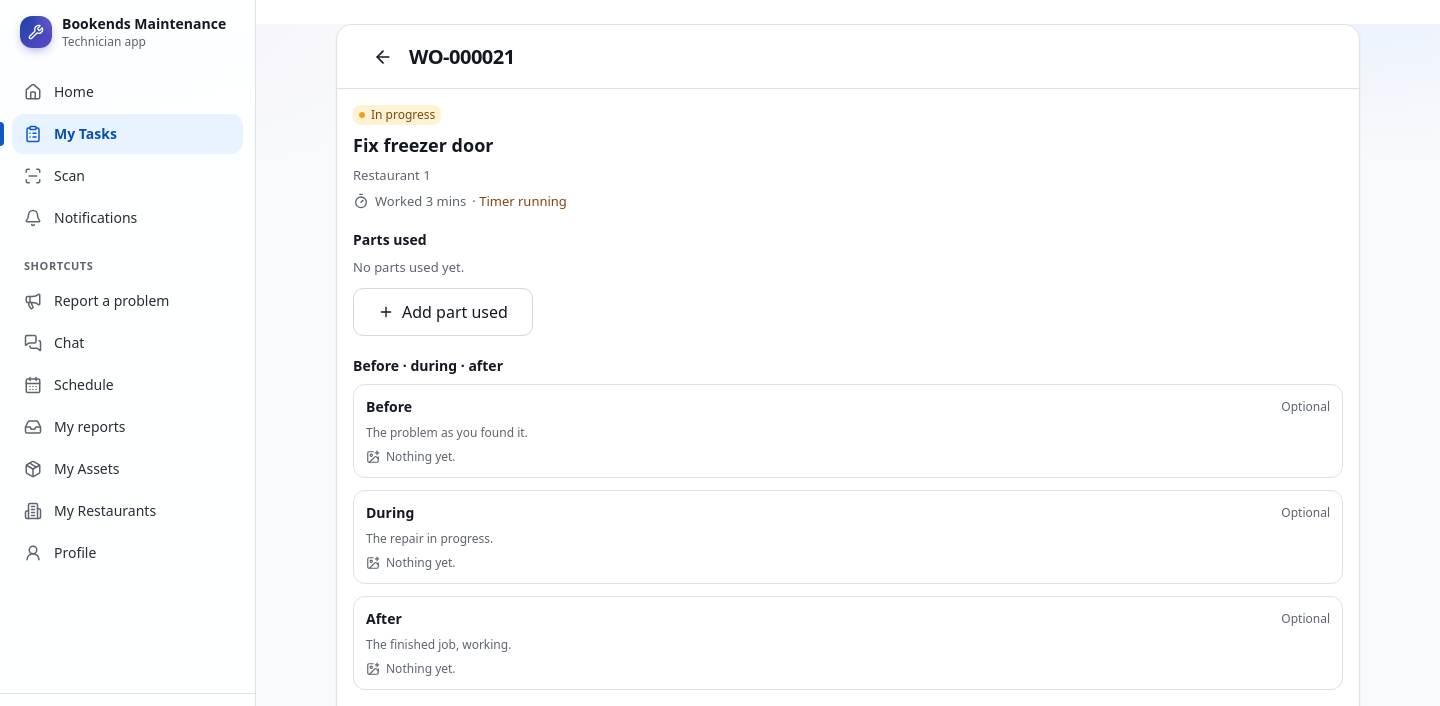
Test case: parts used on a task (worker) › picks an in-stock part and records it
Click the button "Add part used" at (443, 312), box [353, 288, 533, 336]
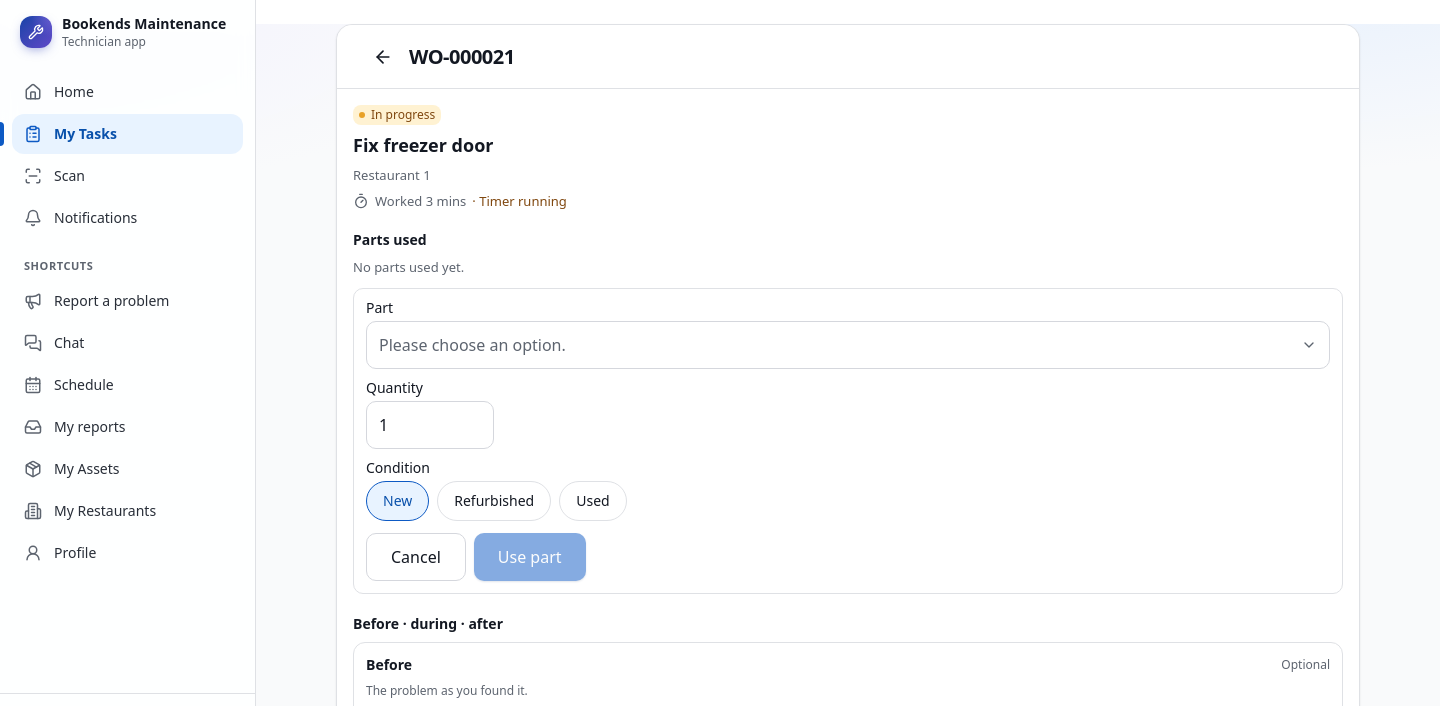
Click the dropdown named "Part" at (472, 345), box [366, 321, 1330, 369]
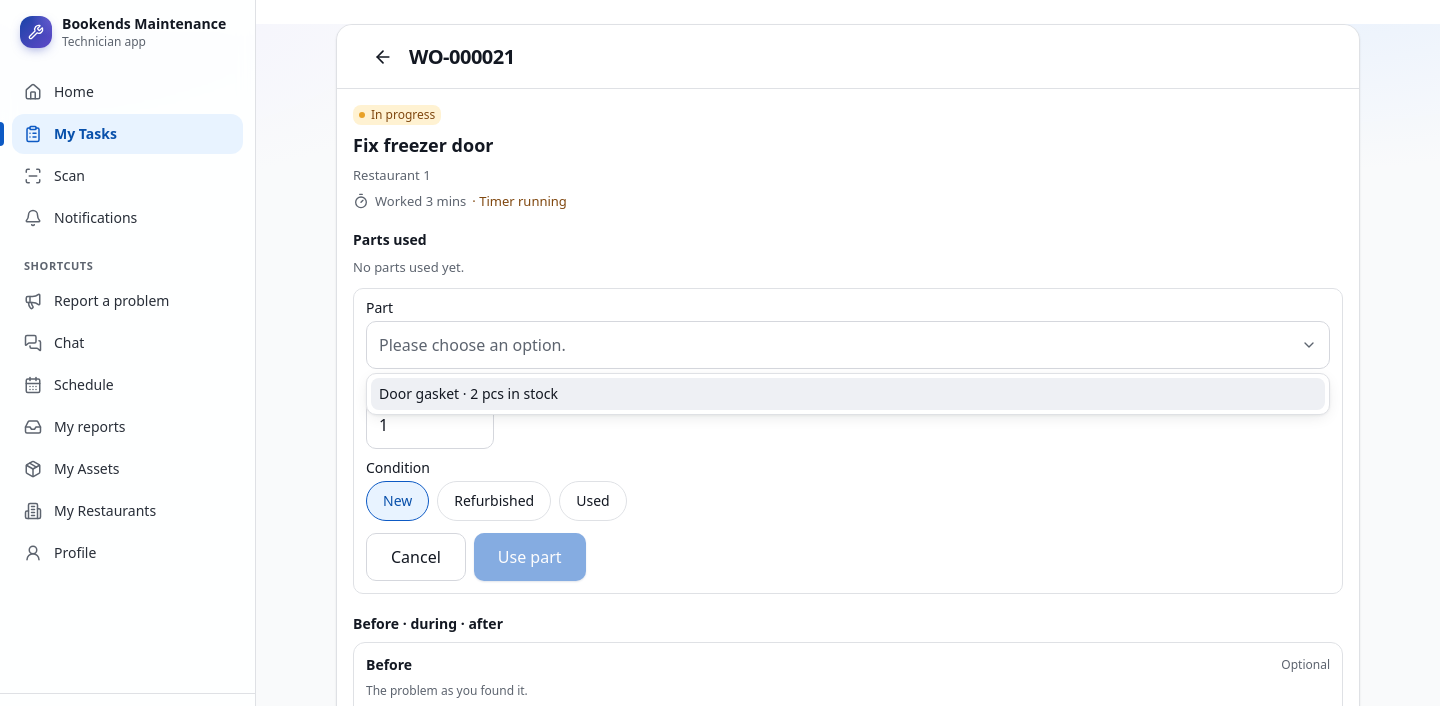
Click the option "Door gasket · 2 pcs in stock" at (419, 394), box [371, 378, 1325, 410]
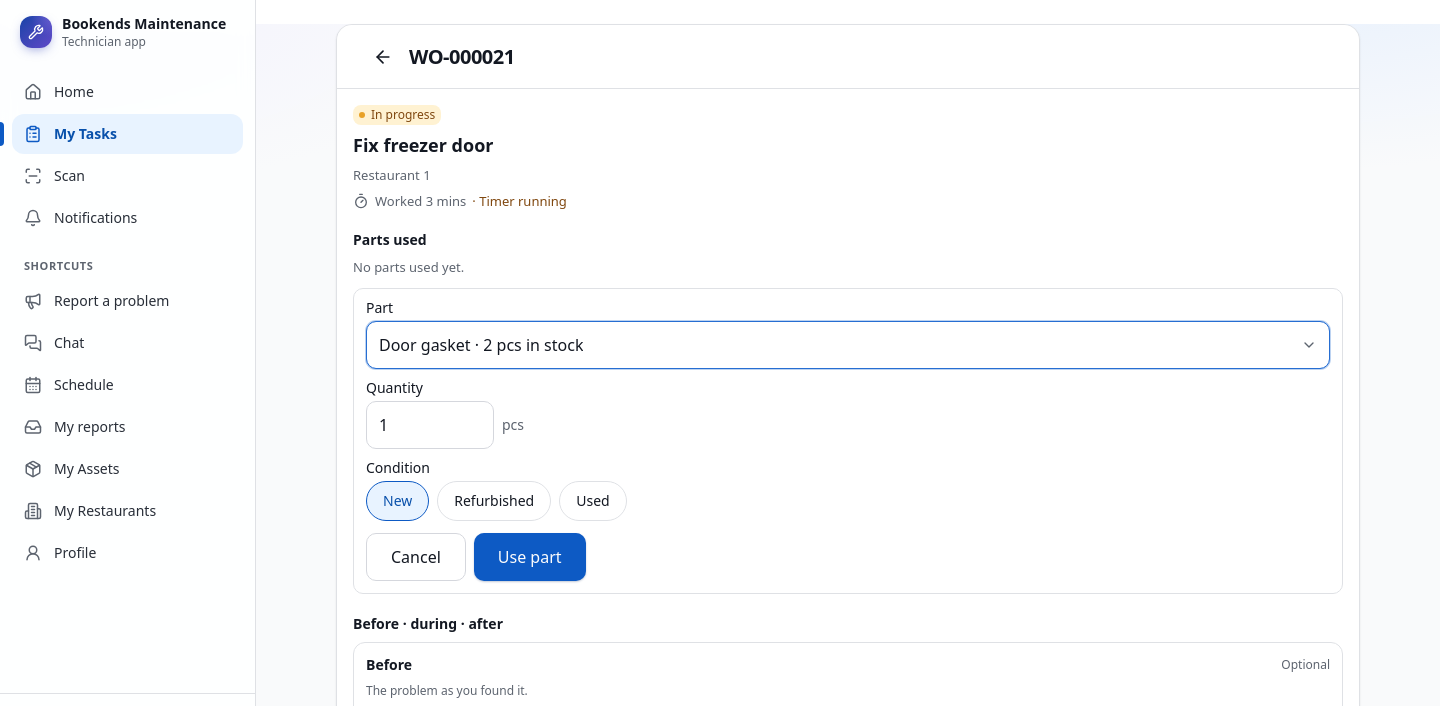
Click the button "Use part" at (530, 557), box [474, 533, 586, 581]
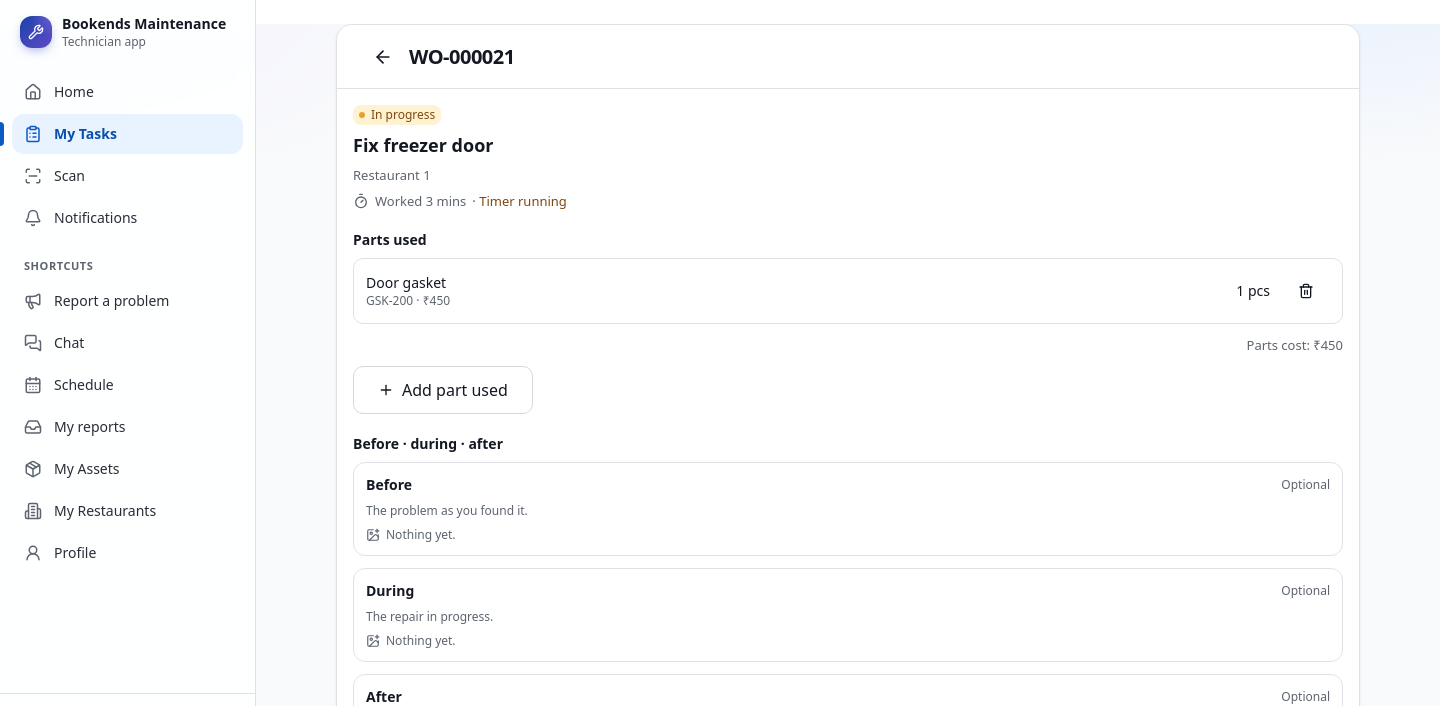
Expected: the text "Parts cost: ₹450" is shown, [1246, 336, 1343, 354]
